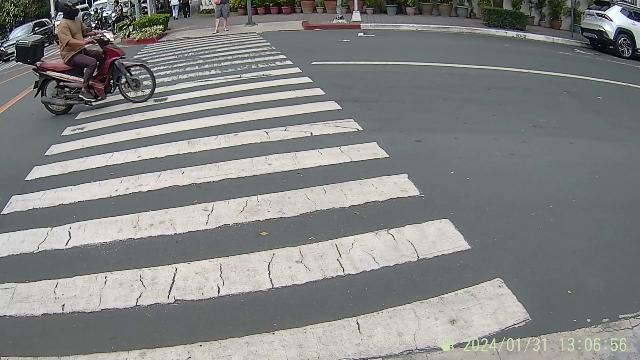motorcycle: (0, 24, 156, 108)
